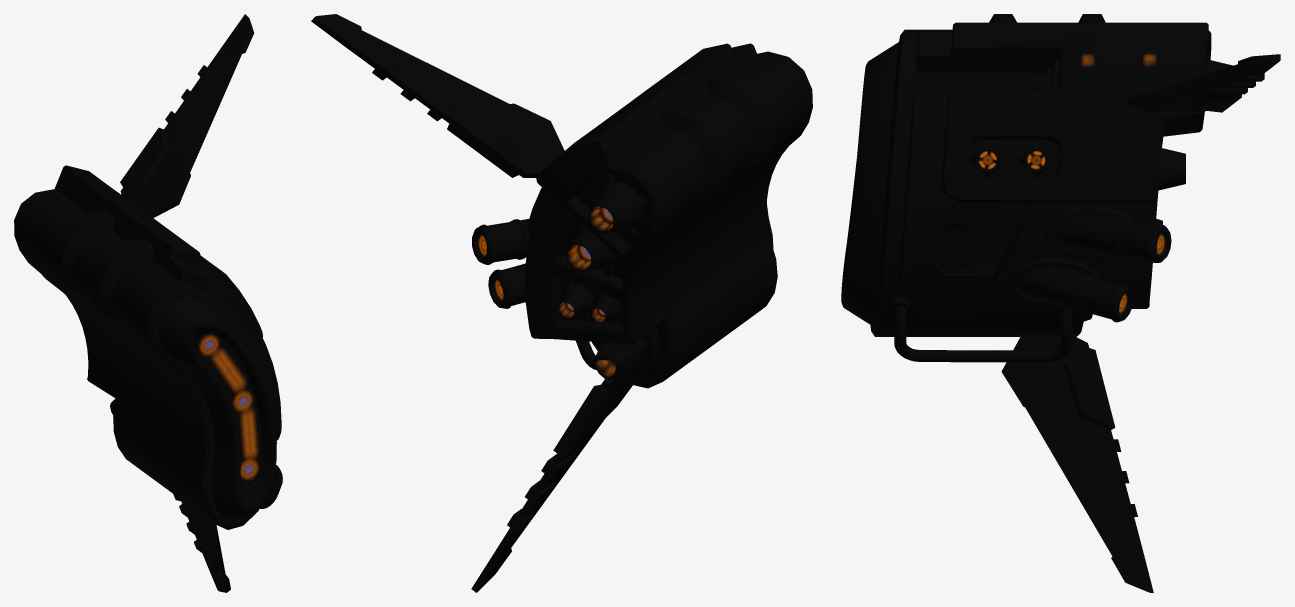
Rendered from SM_R_Engine_2.fbx.
The picture shows the model from 3 angles, left to right: view 1: azimuth 30°, elevation 25°; view 2: azimuth 150°, elevation 25°; view 3: azimuth 270°, elevation 25°; orthographic projection. The views are drawn at different scales.
Visible parts, largest first — view 1: SM_R_Engine_2; view 2: SM_R_Engine_2; view 3: SM_R_Engine_2.
Boxes of the visible parts, x1,y1,x2,y2 form: SM_R_Engine_2: (14, 14, 282, 592); SM_R_Engine_2: (311, 14, 812, 592); SM_R_Engine_2: (841, 14, 1280, 592).
Size of the model in its own units: 70.68 by 127 by 86.58.
